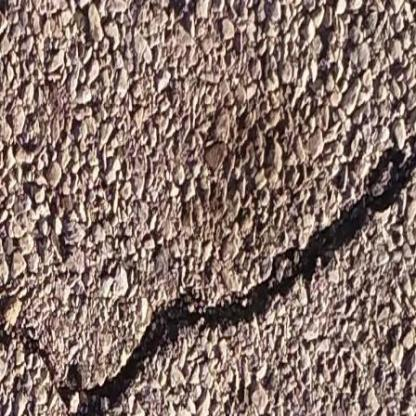Cracks: (67, 134, 415, 416), (2, 292, 150, 416)
